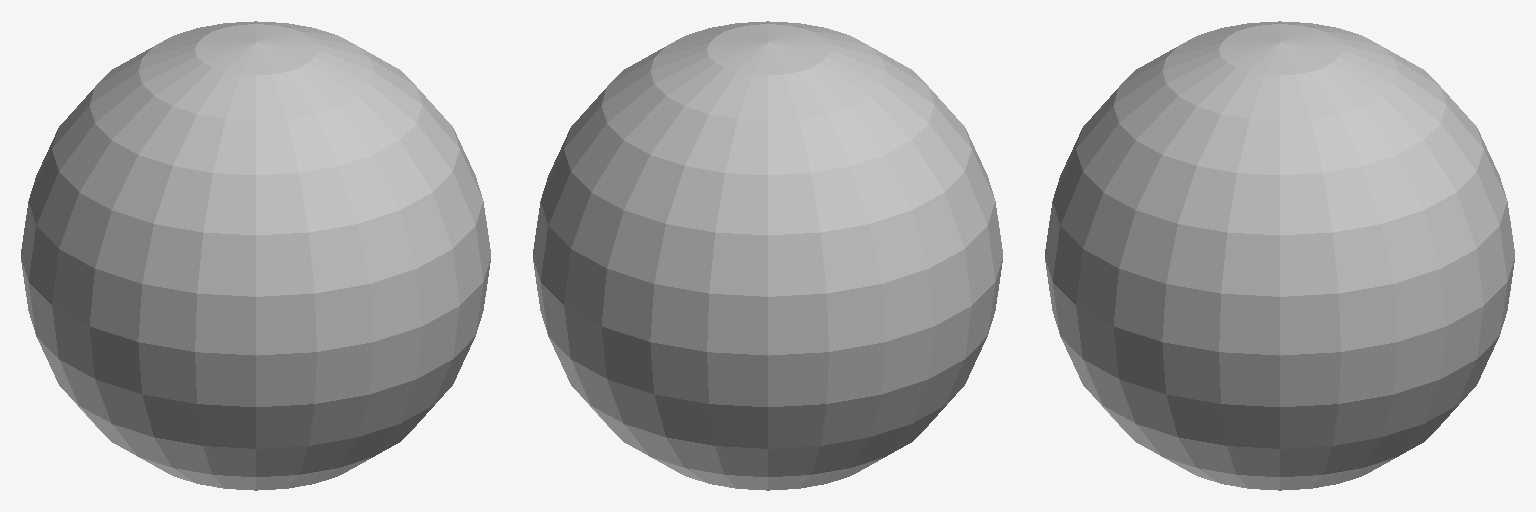
The model's file is ball.obj.
3 views of the same model, side by side, from view 1: azimuth 30°, elevation 25°; view 2: azimuth 150°, elevation 25°; view 3: azimuth 270°, elevation 25° (orthographic).
Visible parts, largest first — view 1: ball.obj; view 2: ball.obj; view 3: ball.obj.
Part boxes in pixels (x1,y1,x2,y2): ball.obj: (21,21,490,490); ball.obj: (533,21,1002,490); ball.obj: (1045,21,1514,490).
Size of the model in its own units: 4.6 by 4.6 by 4.6.